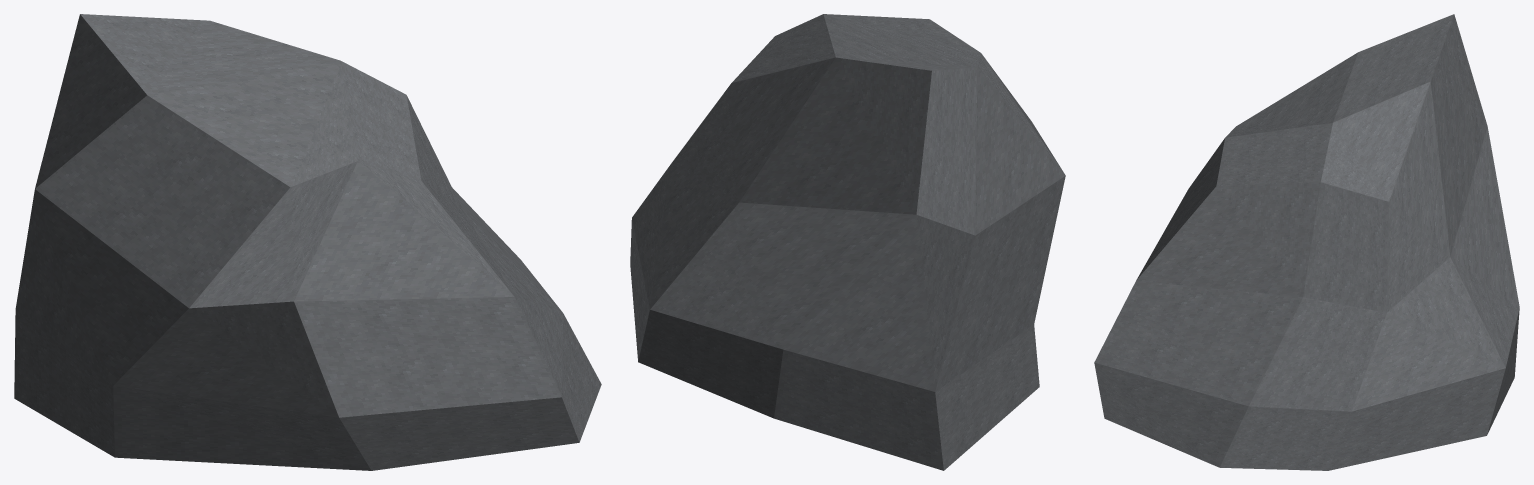
File: BigRock2.glb
3 views of the same model, side by side, from view 1: azimuth 30°, elevation 25°; view 2: azimuth 150°, elevation 25°; view 3: azimuth 270°, elevation 25° (orthographic). The views are drawn at different scales.
Parts seen in each view (by area): view 1: BigRock2; view 2: BigRock2; view 3: BigRock2.
Part boxes in pixels (left/top/right/bottom): BigRock2: left=14, top=14, right=601, bottom=470; BigRock2: left=630, top=14, right=1065, bottom=470; BigRock2: left=1094, top=14, right=1519, bottom=470.
Bounding box in the file's own units: 14 × 11.97 × 14.07.
1 material, 1 textured.
